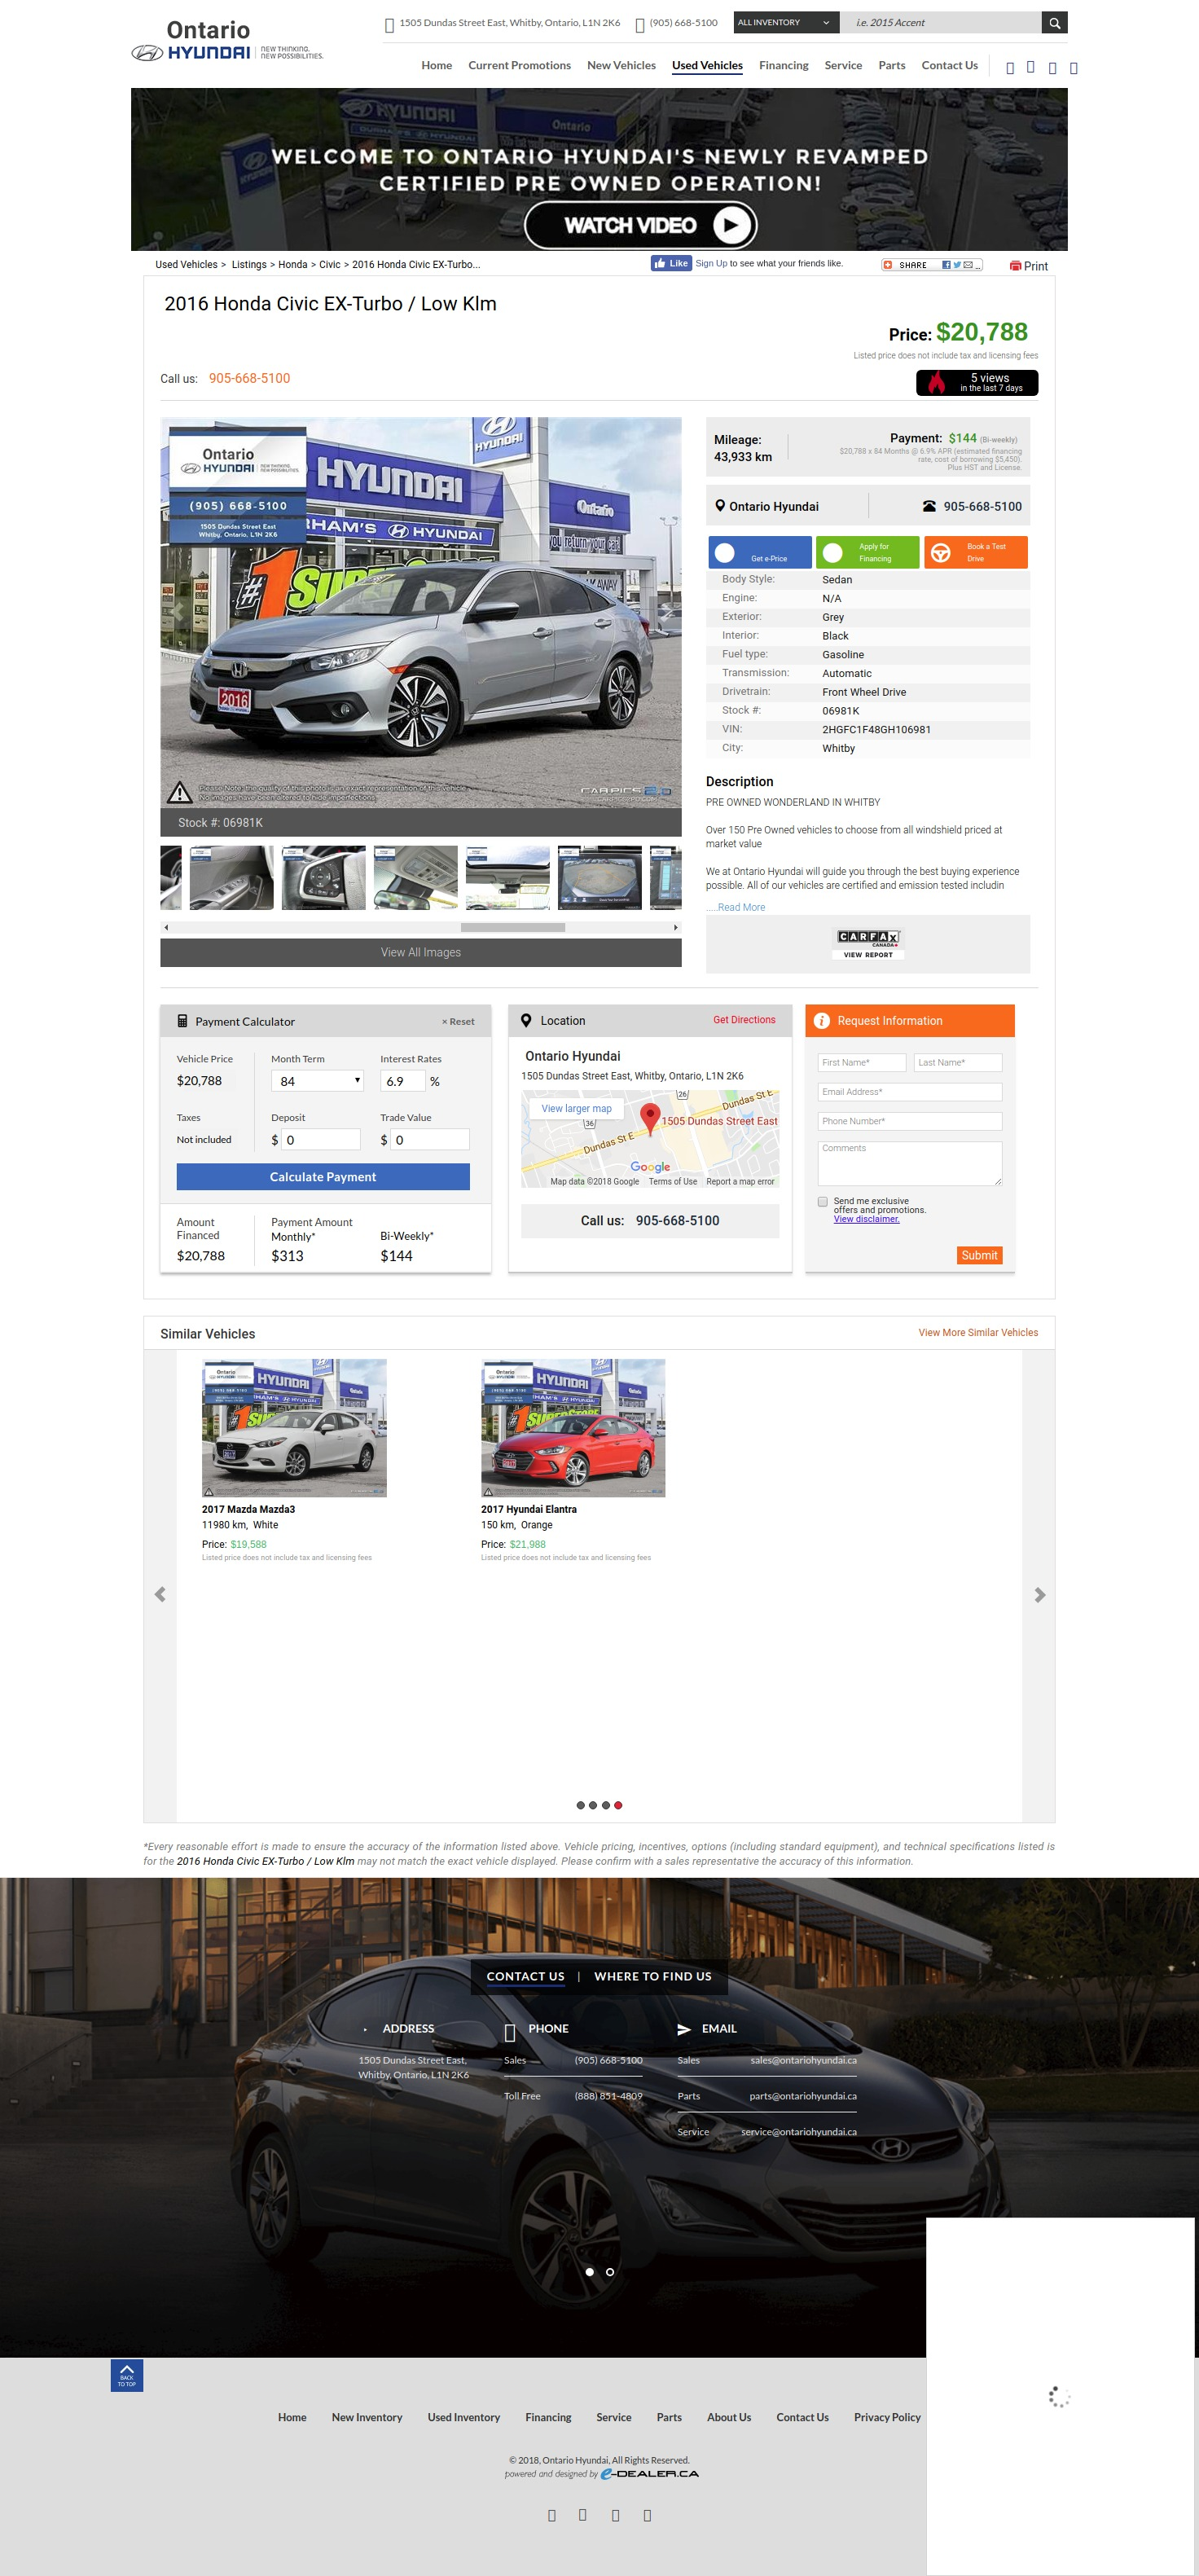car: (675, 925, 678, 931)
